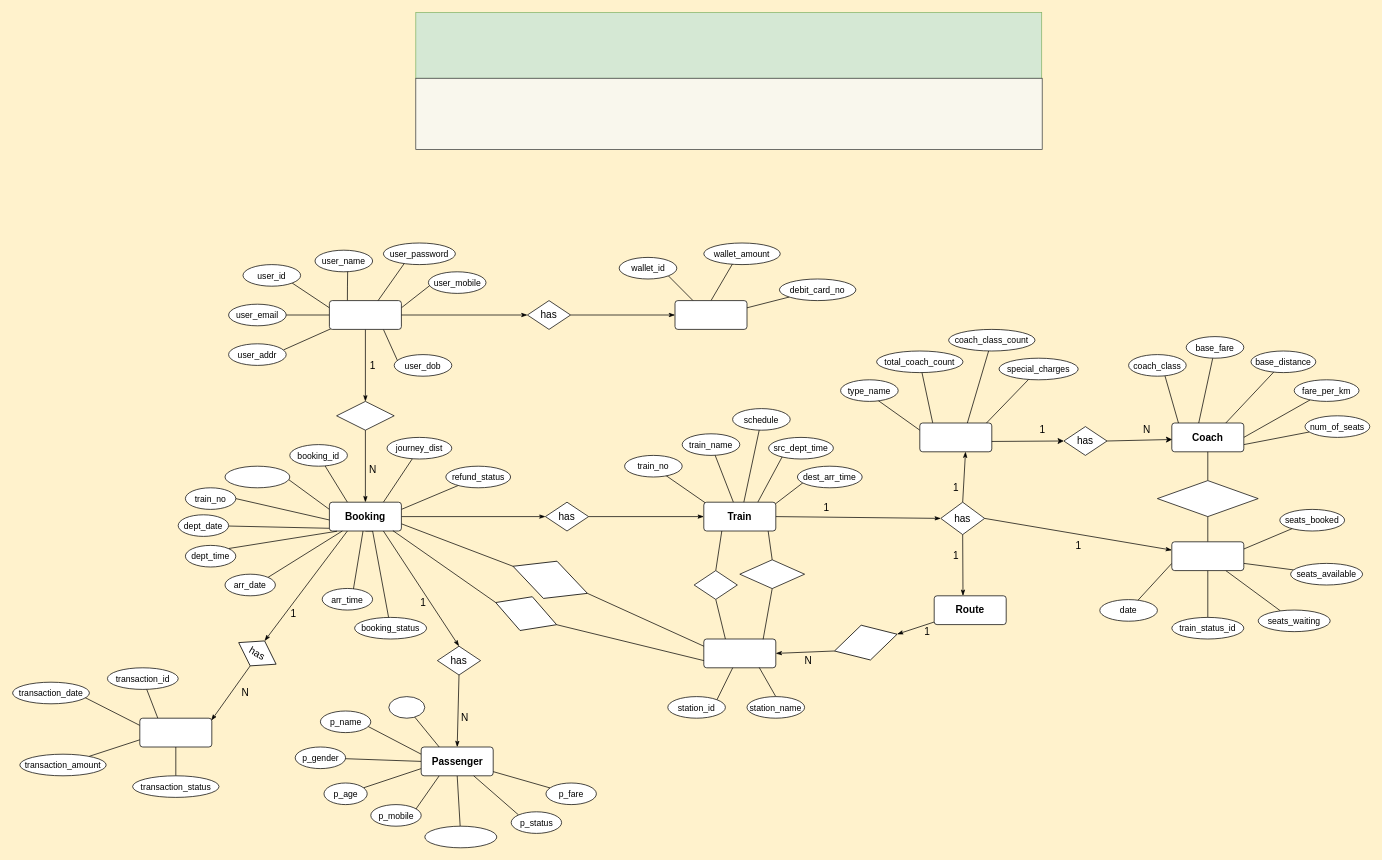
Some shapes in this 1382 by 860 pixel diagram are drawn without their labels. Each missing label, with the centre of its shape:
booking_date: point 257,476
books: point 365,415
consist of: point 865,642
destination: point 772,574
ENTITY - RELATIONSHIP DIAGRAM (Passenger Services): point 728,113
for each type: point 1207,498
journey_from: point 549,579
journey_to: point 526,613
p_coach_class: point 460,836
p_id: point 406,707
source: point 715,584
Station: point 739,653
TRAIN RESERVATION SYSTEM: point 728,45
Train Status: point 1207,556
Train Type: point 955,437
Transactions: point 175,732
User: point 365,314
Wallet: point 710,314
